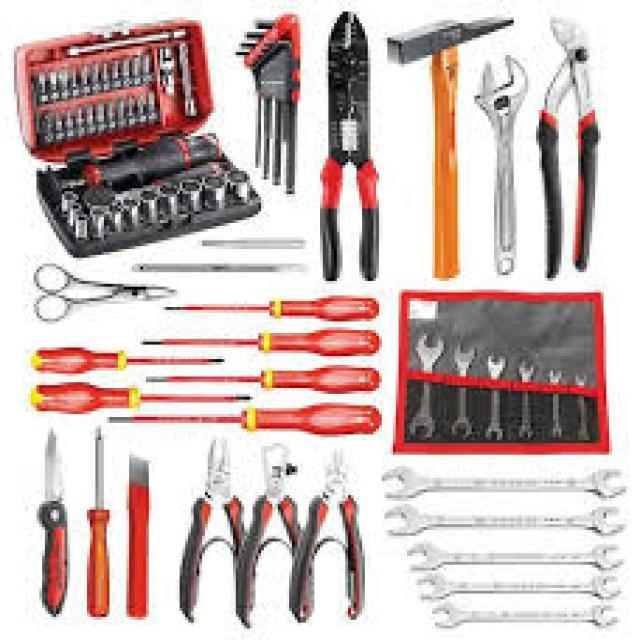hammer: (389, 5, 497, 286)
pliers: (318, 10, 384, 292), (536, 11, 598, 287), (178, 433, 249, 625), (238, 443, 308, 624), (302, 449, 370, 632)
screwdriver: (112, 399, 386, 440), (134, 323, 385, 360), (145, 362, 381, 394), (28, 380, 255, 412), (161, 292, 386, 324), (84, 426, 115, 622), (29, 344, 228, 374)
wrench: (470, 50, 530, 282), (382, 460, 630, 500), (383, 502, 627, 540), (405, 540, 626, 573), (413, 572, 627, 606), (432, 600, 624, 630), (404, 332, 449, 443), (444, 338, 482, 442), (480, 348, 511, 442), (514, 356, 544, 441), (542, 365, 569, 447), (570, 372, 592, 437)
